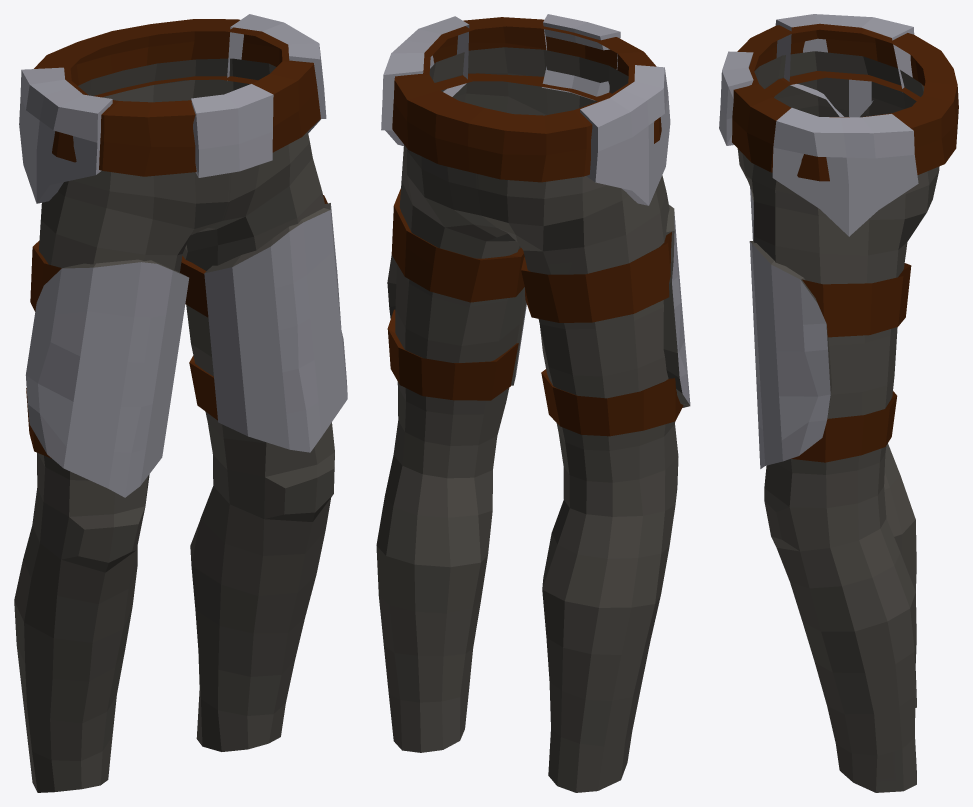
The model's file is Icon 5.fbx.
3 renders of one model, left to right at view 1: azimuth 30°, elevation 25°; view 2: azimuth 150°, elevation 25°; view 3: azimuth 270°, elevation 25°, orthographic. The views are drawn at different scales.
Visible parts, largest first — view 1: Iron Pants; view 2: Iron Pants; view 3: Iron Pants.
Boxes of the visible parts, <box> form: Iron Pants: <box>14,14,347,792</box>; Iron Pants: <box>376,14,690,792</box>; Iron Pants: <box>719,14,958,792</box>.
Bounding box in the file's own units: 47.08 × 105 × 33.84.
